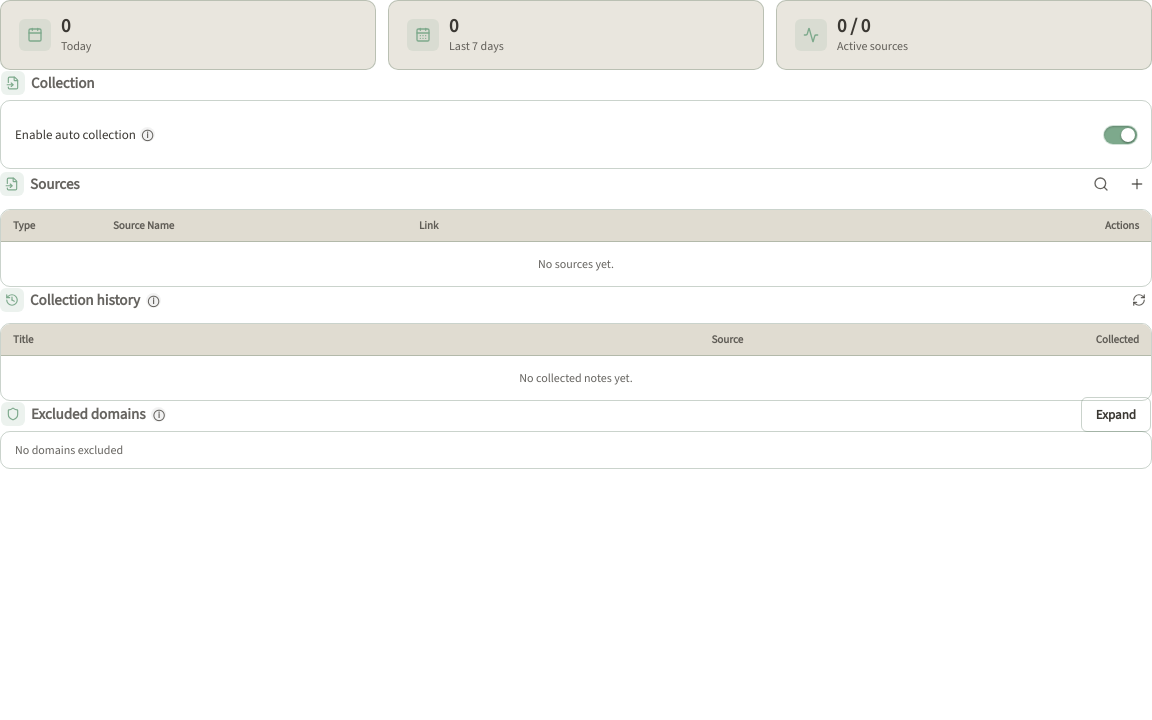
CollectSection › browser_history kind › shows the Browser history option and its fields in the create form
This screenshot has width=1152, height=720.
Click the button with test id "collect-table-add-row".
click(1137, 184)  # box [1122,169,1151,199]
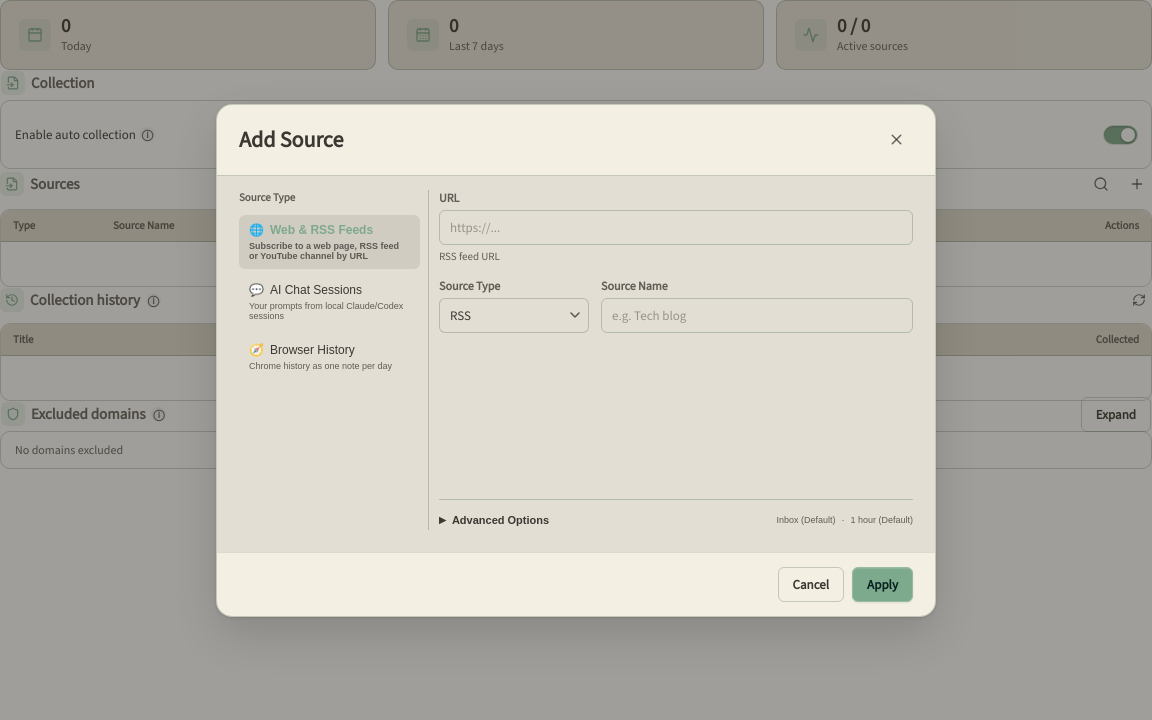
Click the button with aria-label "Source Type".
click(514, 315)  # box [439,298,589,332]
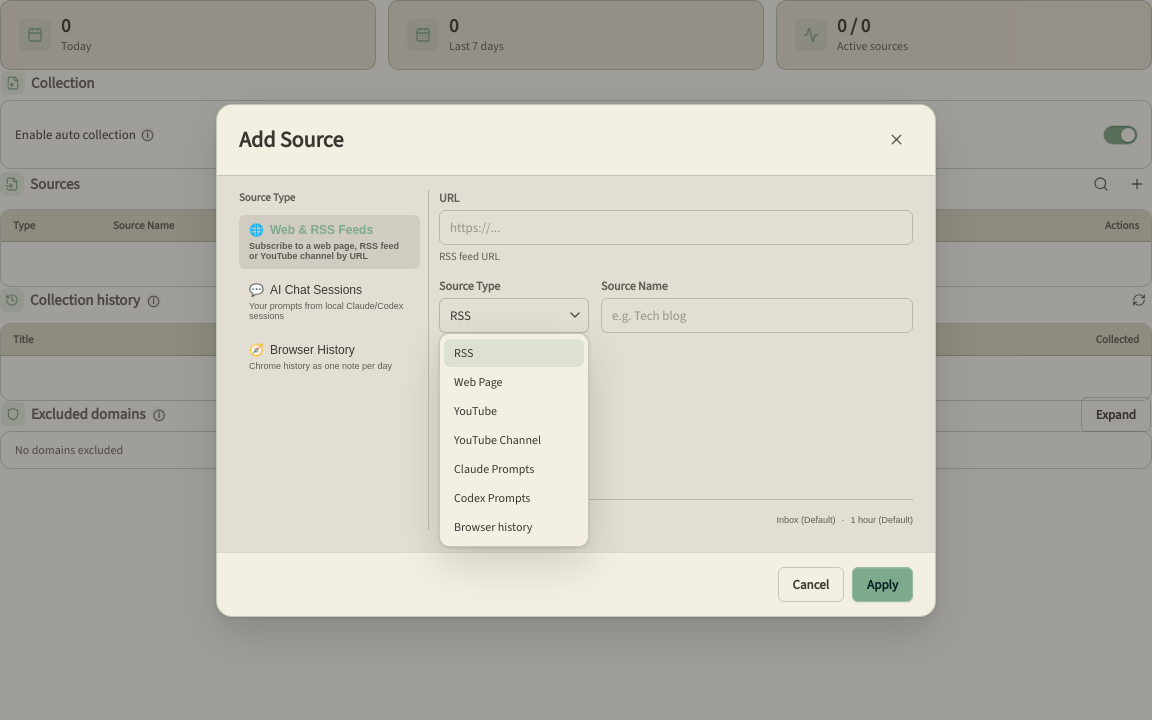
Click the option "Browser history".
click(493, 526)  # box [454,518,532,534]
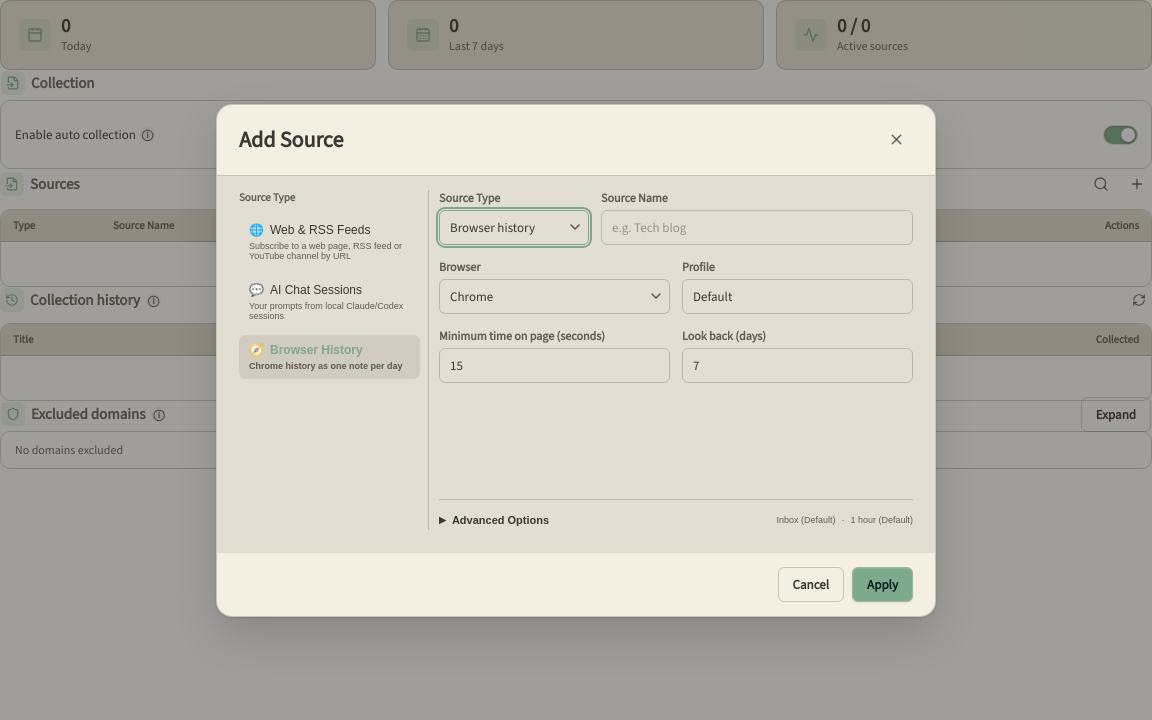
Check: the text "Browser" is shown, box [439,258,480,274]
Check: the text "Profile" is shown, box [682,258,715,274]
Check: the text "Minimum time on page (seconds)" is shown, box [439,328,605,344]
